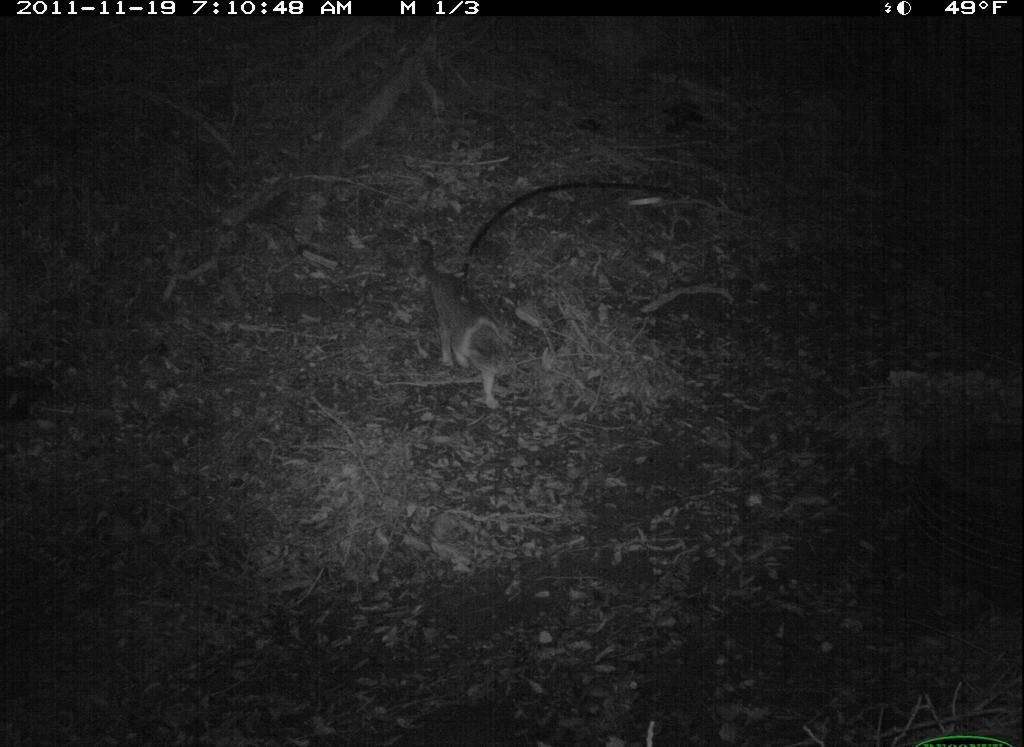cat: (402, 239, 525, 410)
